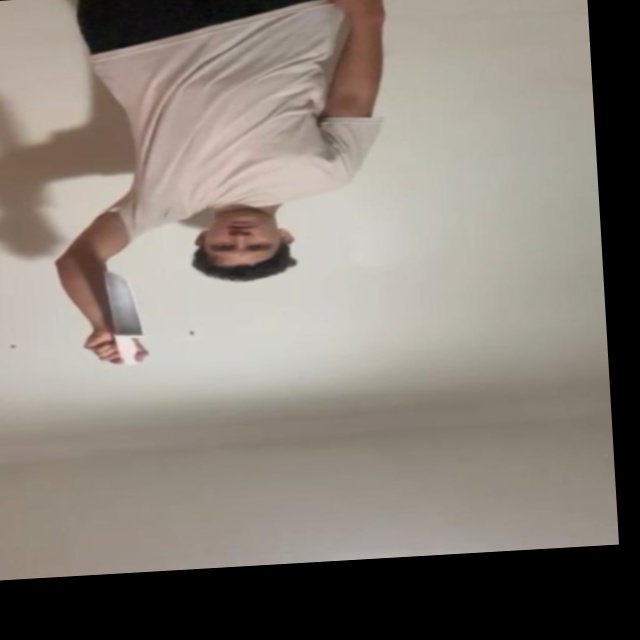Sharp-Object: (102, 273, 138, 338)
